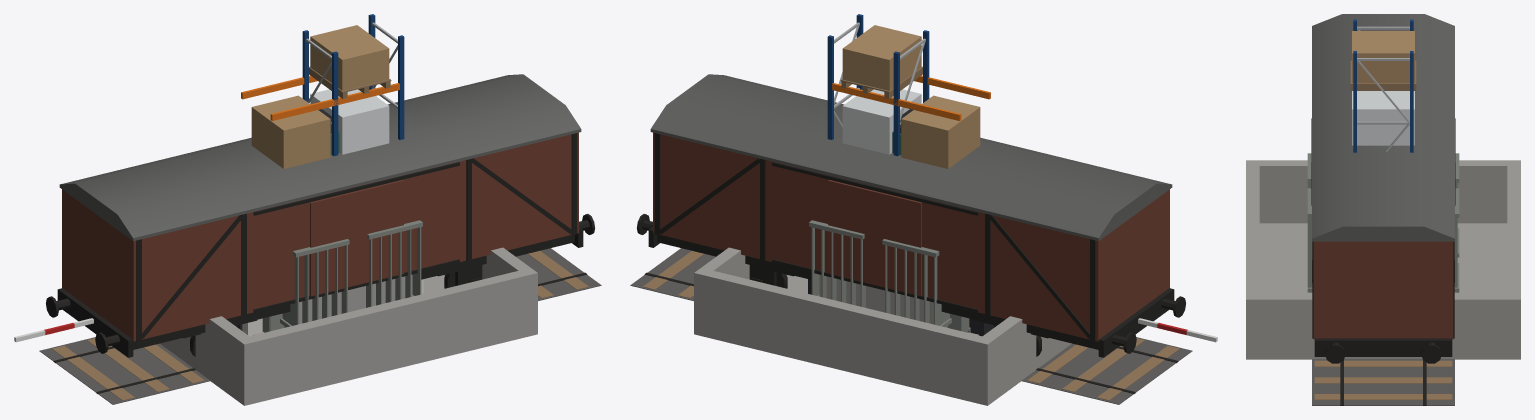
Rendered from facility-props.glb.
3 renders of one model, left to right at view 1: azimuth 30°, elevation 25°; view 2: azimuth 150°, elevation 25°; view 3: azimuth 270°, elevation 25°, orthographic. The views are drawn at different scales.
Parts seen in each view (by area): view 1: boxVan.vanBody, boxVan.vanRoof, transformer.concrete, boxVan.iron, palletRackBay.cardboard, transformer.transformer, trackPanel.ballast, trackPanel.timber, palletRackBay.wrap, palletRackBay.rackOrange, pumpUnit.concrete, palletRackEnd.rackBlue (+2 smaller); view 2: boxVan.vanBody, boxVan.vanRoof, transformer.concrete, boxVan.iron, palletRackBay.cardboard, trackPanel.ballast, transformer.transformer, trackPanel.timber, palletRackBay.wrap, palletRackBay.rackOrange, pumpUnit.concrete, palletRackEnd.rackBlue (+2 smaller); view 3: transformer.concrete, boxVan.vanRoof, boxVan.vanBody, trackPanel.ballast, boxVan.iron, palletRackBay.cardboard, palletRackBay.wrap, trackPanel.timber, transformer.transformer, palletRackBay.rackBlue, palletRackBay.galv, palletRackBay.timber (+1 smaller).
Boxes of the visible parts, box(x1,y1,x2,y2) form: boxVan.vanBody: box(62, 132, 578, 341); boxVan.vanRoof: box(59, 74, 581, 241); transformer.concrete: box(160, 247, 537, 405); boxVan.iron: box(46, 133, 594, 357); palletRackBay.cardboard: box(251, 25, 389, 168); transformer.transformer: box(262, 220, 422, 332); trackPanel.ballast: box(39, 248, 601, 404); trackPanel.timber: box(52, 251, 588, 400); palletRackBay.wrap: box(310, 89, 389, 154); palletRackBay.rackOrange: box(241, 75, 399, 120); pumpUnit.concrete: box(284, 274, 412, 327); palletRackEnd.rackBlue: box(302, 30, 338, 156); boxVan.vanBody: box(653, 132, 1169, 341); boxVan.vanRoof: box(650, 74, 1172, 241); transformer.concrete: box(694, 247, 1071, 405); boxVan.iron: box(637, 133, 1185, 357); palletRackBay.cardboard: box(842, 25, 980, 168); trackPanel.ballast: box(630, 248, 1192, 404); transformer.transformer: box(809, 220, 969, 332); trackPanel.timber: box(643, 251, 1179, 400); palletRackBay.wrap: box(842, 89, 921, 154); palletRackBay.rackOrange: box(832, 75, 990, 120); pumpUnit.concrete: box(819, 274, 947, 327); palletRackEnd.rackBlue: box(893, 30, 929, 156); transformer.concrete: box(1246, 160, 1520, 359); boxVan.vanRoof: box(1312, 14, 1454, 241); boxVan.vanBody: box(1311, 118, 1455, 339); trackPanel.ballast: box(1312, 359, 1454, 405); boxVan.iron: box(1312, 241, 1454, 363); palletRackBay.cardboard: box(1352, 31, 1414, 83); palletRackBay.wrap: box(1352, 91, 1414, 145); trackPanel.timber: box(1314, 360, 1452, 399); transformer.transformer: box(1307, 153, 1459, 292); palletRackBay.rackBlue: box(1353, 51, 1413, 152); palletRackBay.galv: box(1357, 58, 1409, 151); palletRackBay.timber: box(1350, 60, 1416, 90).
Bounding box in the file's own units: 11.24 × 5.4 × 5.
